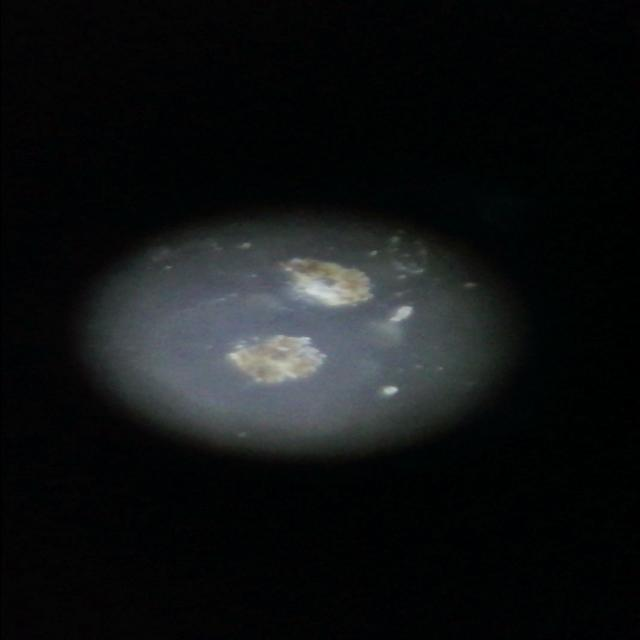alexandrium: (255, 253, 398, 316), (214, 326, 360, 384)
